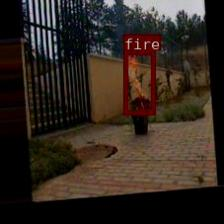fire: (123, 50, 154, 113)
